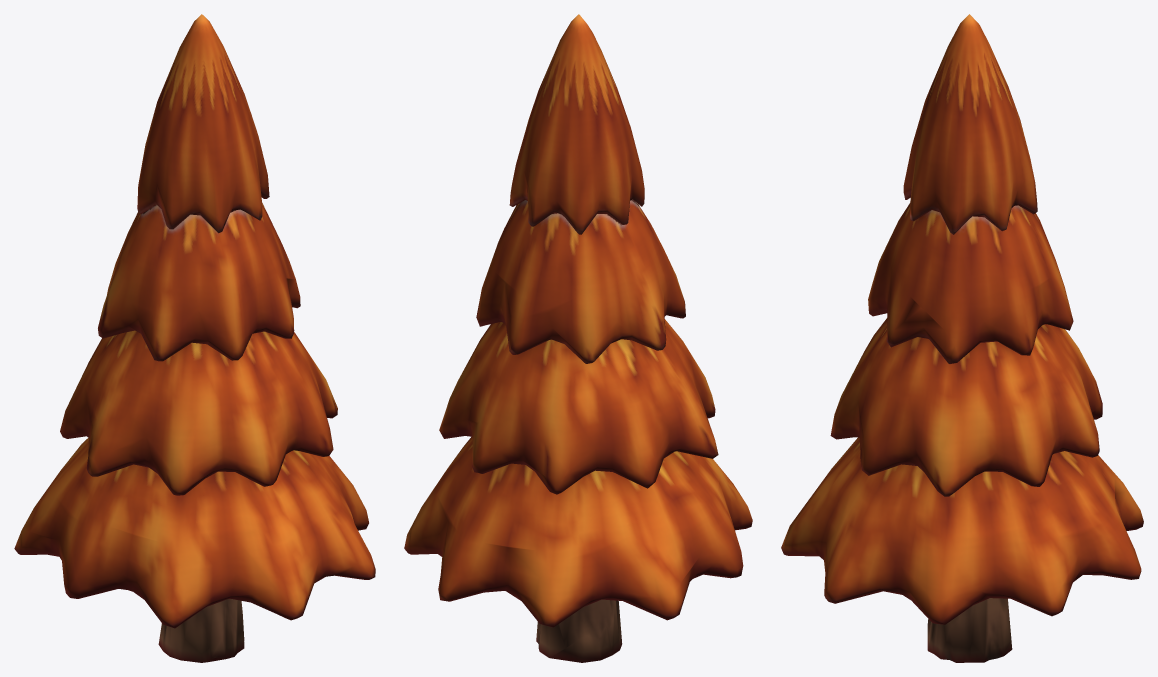
Rendered from pine_a.glb.
The picture shows the model from 3 angles, left to right: view 1: azimuth 30°, elevation 25°; view 2: azimuth 150°, elevation 25°; view 3: azimuth 270°, elevation 25°; orthographic projection.
Visible parts, largest first — view 1: pine_a; view 2: pine_a; view 3: pine_a.
Part boxes in pixels (x1,y1,x2,y2): pine_a: (14, 14, 375, 662); pine_a: (404, 14, 752, 662); pine_a: (781, 14, 1143, 662).
Bounding box in the file's own units: 1.92 × 3.87 × 2.01.
1 material, 1 textured.
